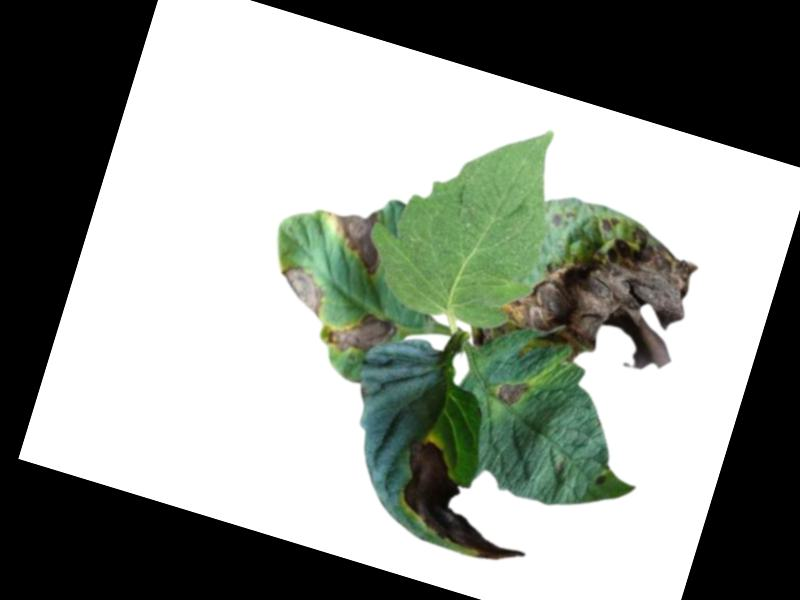Early_blight: (491, 192, 706, 391), (381, 431, 549, 569), (317, 199, 394, 277), (322, 299, 400, 365), (270, 259, 332, 319), (492, 375, 529, 409), (468, 321, 494, 351), (593, 470, 606, 486)
healthy: (352, 87, 577, 341)
